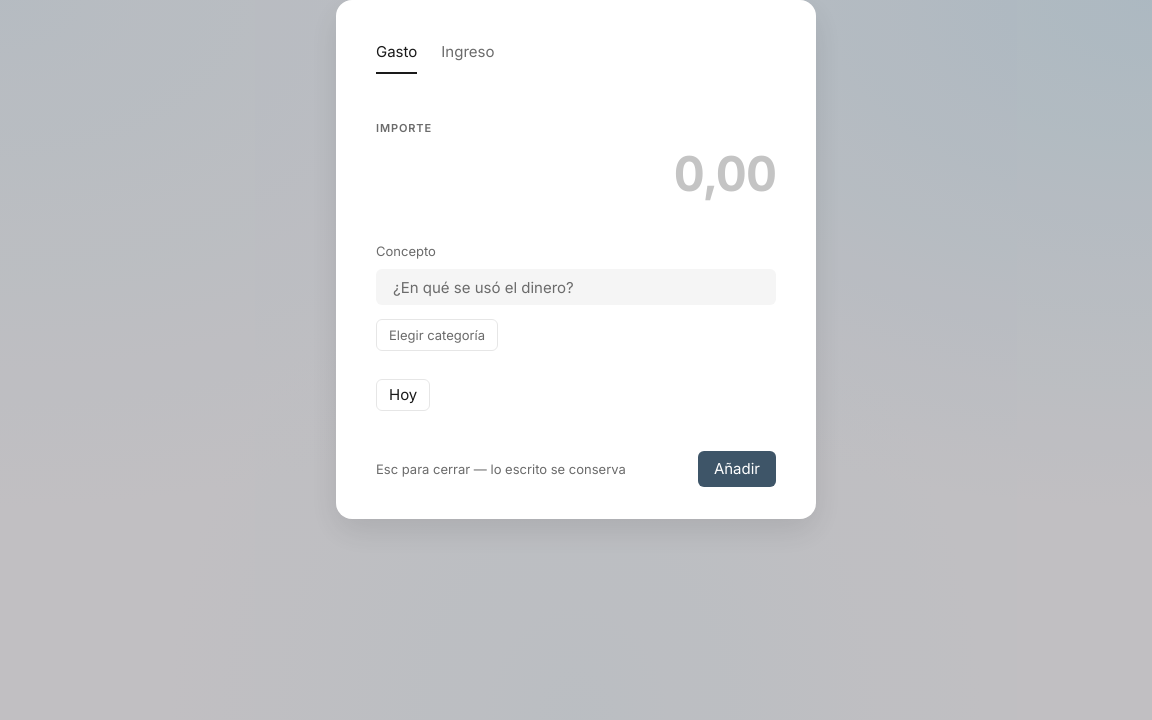
Scenario: NewMovementSheet — Checkpoint III-A (Saldo Design Constitution v1.2) › los tabs cambian el tipo activo (Gasto/Ingreso)
Expected: the field with placeholder "¿En qué se usó el dinero?" is shown, [376, 269, 776, 305]
Click the tab "Ingreso" at (468, 57), box [441, 40, 494, 74]
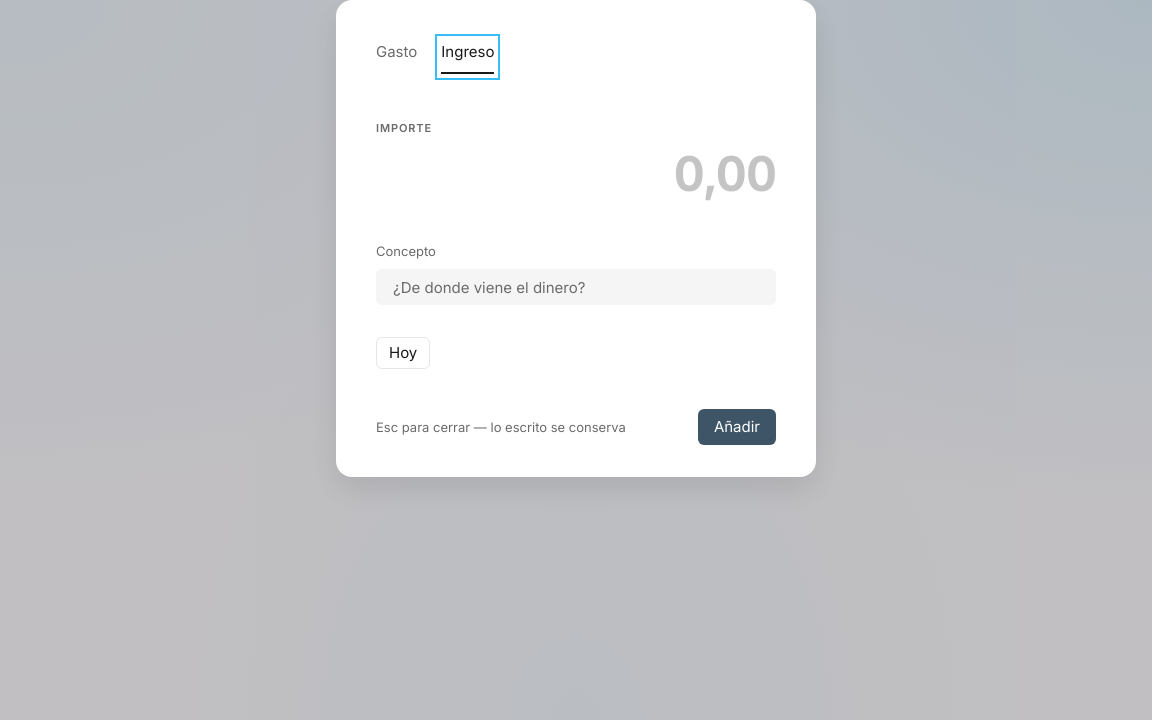
Now the field with placeholder "¿De donde viene el dinero?" is shown, box [376, 269, 776, 305]
